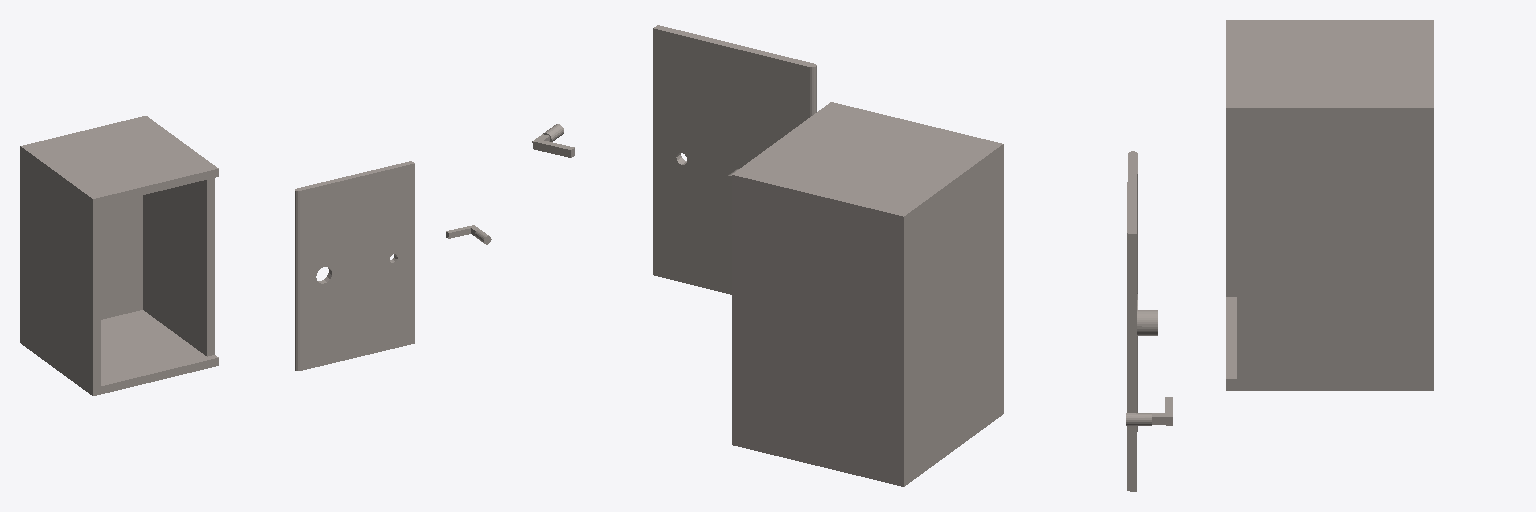
URDF robot description (door):
<?xml version="1.0" encoding="utf-8"?>
<!-- This URDF was automatically created by SolidWorks to URDF Exporter! Originally created by Stephen Brawner (brawner@gmail.com) 
     Commit Version: 1.6.0-4-g7f85cfe  Build Version: 1.6.7995.38578
     For more information, please see http://wiki.ros.org/sw_urdf_exporter -->
<robot
  name="door">
  <link
    name="door_frame">
    <inertial>
      <origin
        xyz="-0.0675064873554519 -0.0254111733586616 -0.0813698389925076"
        rpy="0 0 0" />
      <mass
        value="833.452860960001" />
      <inertia
        ixx="202.158086674609"
        ixy="2.4155850764665E-14"
        ixz="1.76617856733716"
        iyy="128.434832493651"
        iyz="1.22340140027669E-15"
        izz="224.739807072642" />
    </inertial>
    <visual>
      <origin
        xyz="0 0 0"
        rpy="0 0 0" />
      <geometry>
        <mesh
          filename="package://door2/meshes/door_frame.STL" scale="0.5 0.5 0.5" />
      </geometry>
      <material
        name="">
        <color
          rgba="0.686274509803922 0.658823529411765 0.63921568627451 1" />
      </material>
    </visual>
    <collision>
      <origin
        xyz="0 0 0"
        rpy="0 0 0" />
      <geometry>
        <mesh
          filename="package://door2/meshes/door_frame/part_0.glb" scale="0.5 0.5 0.5" />
      </geometry>
    </collision>
    <collision>
      <origin
        xyz="0 0 0"
        rpy="0 0 0" />
      <geometry>
        <mesh
          filename="package://door2/meshes/door_frame/part_1.glb" scale="0.5 0.5 0.5" />
      </geometry>
    </collision>
    <collision>
      <origin
        xyz="0 0 0"
        rpy="0 0 0" />
      <geometry>
        <mesh
          filename="package://door2/meshes/door_frame/part_2.glb" scale="0.5 0.5 0.5" />
      </geometry>
    </collision>
    <collision>
      <origin
        xyz="0 0 0"
        rpy="0 0 0" />
      <geometry>
        <mesh
          filename="package://door2/meshes/door_frame/part_3.glb" scale="0.5 0.5 0.5" />
      </geometry>
    </collision>
    <collision>
      <origin
        xyz="0 0 0"
        rpy="0 0 0" />
      <geometry>
        <mesh
          filename="package://door2/meshes/door_frame/part_4.glb" scale="0.5 0.5 0.5" />
      </geometry>
    </collision>
    <collision>
      <origin
        xyz="0 0 0"
        rpy="0 0 0" />
      <geometry>
        <mesh
          filename="package://door2/meshes/door_frame/part_5.glb" scale="0.5 0.5 0.5" />
      </geometry>
    </collision>
    <collision>
      <origin
        xyz="0 0 0"
        rpy="0 0 0" />
      <geometry>
        <mesh
          filename="package://door2/meshes/door_frame/part_6.glb" scale="0.5 0.5 0.5" />
      </geometry>
    </collision>
    <collision>
      <origin
        xyz="0 0 0"
        rpy="0 0 0" />
      <geometry>
        <mesh
          filename="package://door2/meshes/door_frame/part_7.glb" scale="0.5 0.5 0.5" />
      </geometry>
    </collision>
    <collision>
      <origin
        xyz="0 0 0"
        rpy="0 0 0" />
      <geometry>
        <mesh
          filename="package://door2/meshes/door_frame/part_8.glb" scale="0.5 0.5 0.5" />
      </geometry>
    </collision>
    <collision>
      <origin
        xyz="0 0 0"
        rpy="0 0 0" />
      <geometry>
        <mesh
          filename="package://door2/meshes/door_frame/part_9.glb" scale="0.5 0.5 0.5" />
      </geometry>
    </collision>
    <collision>
      <origin
        xyz="0 0 0"
        rpy="0 0 0" />
      <geometry>
        <mesh
          filename="package://door2/meshes/door_frame/part_10.glb" scale="0.5 0.5 0.5" />
      </geometry>
    </collision>
    <collision>
      <origin
        xyz="0 0 0"
        rpy="0 0 0" />
      <geometry>
        <mesh
          filename="package://door2/meshes/door_frame/part_11.glb" scale="0.5 0.5 0.5" />
      </geometry>
    </collision>
  </link>
  <link
    name="door_link">
    <inertial>
      <origin
        xyz="-0.358947527129936 -0.0264111733586614 -1.21569421196455E-14"
        rpy="0 0 0" />
      <mass
        value="135.668379736162" />
      <inertia
        ixx="13.7693077301722"
        ixy="1.83679966339951E-15"
        ixz="9.56179579958416E-15"
        iyy="6.29363601617103"
        iyz="3.20344314519738E-18"
        izz="20.030458496389" />
    </inertial>
    <visual>
      <origin
        xyz="0 0 0"
        rpy="0 0 0" />
      <geometry>
        <mesh
          filename="package://door2/meshes/door_link.STL" scale="0.5 0.5 0.5" />
      </geometry>
      <material
        name="">
        <color
          rgba="0.686274509803922 0.658823529411765 0.63921568627451 1" />
      </material>
    </visual>
    <collision>
      <origin
        xyz="0 0 0"
        rpy="0 0 0" />
      <geometry>
        <mesh
          filename="package://door2/meshes/door_link/part_0.glb" scale="0.5 0.5 0.5" />
      </geometry>
    </collision>
    <collision>
      <origin
        xyz="0 0 0"
        rpy="0 0 0" />
      <geometry>
        <mesh
          filename="package://door2/meshes/door_link/part_1.glb" scale="0.5 0.5 0.5" />
      </geometry>
    </collision>
    <collision>
      <origin
        xyz="0 0 0"
        rpy="0 0 0" />
      <geometry>
        <mesh
          filename="package://door2/meshes/door_link/part_2.glb" scale="0.5 0.5 0.5" />
      </geometry>
    </collision>
    <collision>
      <origin
        xyz="0 0 0"
        rpy="0 0 0" />
      <geometry>
        <mesh
          filename="package://door2/meshes/door_link/part_3.glb" scale="0.5 0.5 0.5" />
      </geometry>
    </collision>
    <collision>
      <origin
        xyz="0 0 0"
        rpy="0 0 0" />
      <geometry>
        <mesh
          filename="package://door2/meshes/door_link/part_4.glb" scale="0.5 0.5 0.5" />
      </geometry>
    </collision>
    <collision>
      <origin
        xyz="0 0 0"
        rpy="0 0 0" />
      <geometry>
        <mesh
          filename="package://door2/meshes/door_link/part_5.glb" scale="0.5 0.5 0.5" />
      </geometry>
    </collision>
    <collision>
      <origin
        xyz="0 0 0"
        rpy="0 0 0" />
      <geometry>
        <mesh
          filename="package://door2/meshes/door_link/part_6.glb" scale="0.5 0.5 0.5" />
      </geometry>
    </collision>
    <collision>
      <origin
        xyz="0 0 0"
        rpy="0 0 0" />
      <geometry>
        <mesh
          filename="package://door2/meshes/door_link/part_7.glb" scale="0.5 0.5 0.5" />
      </geometry>
    </collision>
    <collision>
      <origin
        xyz="0 0 0"
        rpy="0 0 0" />
      <geometry>
        <mesh
          filename="package://door2/meshes/door_link/part_8.glb" scale="0.5 0.5 0.5" />
      </geometry>
    </collision>
  </link>
  <joint
    name="joint_door"
    type="revolute">
    <origin
      xyz="0.3171 -0.38 0"
      rpy="1.5708 0 -0.0051695" />
    <parent
      link="door_frame" />
    <child
      link="door_link" />
    <axis
      xyz="0 1 0" />
    <limit
      lower="1.57"
      upper="4.71"
      effort="0"
      velocity="0" />
  </joint>
  <link
    name="button_link">
    <inertial>
      <origin
        xyz="-8.32667268468867E-17 4.16333634234434E-17 0.0399978620922186"
        rpy="0 0 0" />
      <mass
        value="2.7826870557472" />
      <inertia
        ixx="0.00322327917290718"
        ixy="1.84342162591118E-19"
        ixz="-3.59141969635823E-19"
        iyy="0.00322327917290718"
        iyz="3.98105485209521E-19"
        izz="0.00347835881968401" />
    </inertial>
    <visual>
      <origin
        xyz="0 0 0"
        rpy="0 0 0" />
      <geometry>
        <mesh
          filename="package://door2/meshes/button_link.STL" scale="0.5 0.5 0.5" />
      </geometry>
      <material
        name="">
        <color
          rgba="0.686274509803922 0.658823529411765 0.63921568627451 1" />
      </material>
    </visual>
    <collision>
      <origin
        xyz="0 0 0"
        rpy="0 0 0" />
      <geometry>
        <mesh
          filename="package://door2/meshes/button_link/part_0.glb" scale="0.5 0.5 0.5" />
      </geometry>
    </collision>
  </link>
  <joint
    name="joint_button"
    type="prismatic">
    <origin
      xyz="-0.1555 -0.026411 0.0089093"
      rpy="0 0 -0.84248" />
    <parent
      link="door_link" />
    <child
      link="button_link" />
    <axis
      xyz="0 0 1" />
    <limit
      lower="0"
      upper="0.05"
      effort="0"
      velocity="0" />
  </joint>
  <link
    name="handle_link">
    <inertial>
      <origin
        xyz="0.0306818497259087 1.73472347597681E-17 0.0899538223660534"
        rpy="0 0 0" />
      <mass
        value="1.977892900921" />
      <inertia
        ixx="0.00681440077606528"
        ixy="-3.63636124621885E-18"
        ixz="-0.00340118542333556"
        iyy="0.0115267131102082"
        iyz="-2.19847401459854E-18"
        izz="0.00521033768611408" />
    </inertial>
    <visual>
      <origin
        xyz="0 0 0"
        rpy="0 0 0" />
      <geometry>
        <mesh
          filename="package://door2/meshes/handle_link.STL" scale="0.5 0.5 0.5" />
      </geometry>
      <material
        name="">
        <color
          rgba="0.686274509803922 0.658823529411765 0.63921568627451 1" />
      </material>
    </visual>
    <collision>
      <origin
        xyz="0 0 0"
        rpy="0 0 0" />
      <geometry>
        <mesh
          filename="package://door2/meshes/handle_link/part_0.glb" scale="0.5 0.5 0.5" />
      </geometry>
    </collision>
    <collision>
      <origin
        xyz="0 0 0"
        rpy="0 0 0" />
      <geometry>
        <mesh
          filename="package://door2/meshes/handle_link/part_1.glb" scale="0.5 0.5 0.5" />
      </geometry>
    </collision>
    <collision>
      <origin
        xyz="0 0 0"
        rpy="0 0 0" />
      <geometry>
        <mesh
          filename="package://door2/meshes/handle_link/part_2.glb" scale="0.5 0.5 0.5" />
      </geometry>
    </collision>
  </link>
  <joint
    name="joint_bar"
    type="revolute">
    <origin
      xyz="-0.5955 -0.026411 0"
      rpy="0 0 0.015221" />
    <parent
      link="door_link" />
    <child
      link="handle_link" />
    <axis
      xyz="0 0 1" />
    <limit
      lower="0"
      upper="1.57"
      effort="0"
      velocity="0" />
  </joint>
</robot>

--- Facts derived from the render (not from the file) ---
3 views of the same robot in one strip: view 1: azimuth 30°, elevation 25°; view 2: azimuth 150°, elevation 25°; view 3: azimuth 270°, elevation 25° (orthographic).
Robot: door — 4 links, 3 joints (2 revolute, 1 prismatic); root link door_frame; default pose: joints at zero except 1 at the middle of their limits (joint_door = 3.14).
Visible links, largest first — view 1: door_frame, door_link; view 2: door_frame, door_link, handle_link; view 3: door_frame, door_link, handle_link, button_link.
Boxes of the visible links, <box> form: door_frame: <box>20,116,218,395</box>; door_link: <box>295,161,414,370</box>; door_frame: <box>732,102,1003,486</box>; door_link: <box>653,25,816,294</box>; handle_link: <box>532,124,574,157</box>; door_frame: <box>1226,20,1433,390</box>; door_link: <box>1127,151,1137,491</box>; handle_link: <box>1126,397,1172,425</box>; button_link: <box>1137,310,1157,335</box>.
Size in the robot's own frame: 1.16 by 0.5936 by 0.6 metres.
Meshes: 4 distinct files referenced, 4 mesh visuals loaded (4 binary STL).
